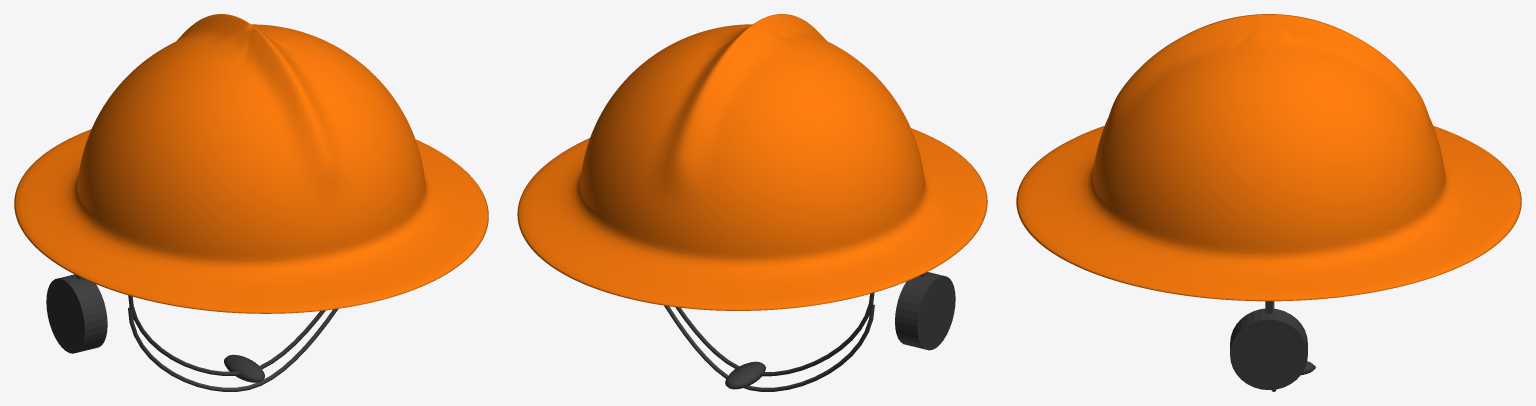
Rendered from forestry_hardhat.glb.
The picture shows the model from 3 angles, left to right: view 1: azimuth 30°, elevation 25°; view 2: azimuth 150°, elevation 25°; view 3: azimuth 270°, elevation 25°; orthographic projection. The views are drawn at different scales.
Visible parts, largest first — view 1: Forestry_Hardhat, Earmuff_L, Chin_Strap, Chin_Strap.008, Chin_Support_Cup; view 2: Forestry_Hardhat, Earmuff_L, Chin_Strap, Chin_Strap.008, Chin_Support_Cup; view 3: Forestry_Hardhat, Earmuff_R.
Boxes of the visible parts, x1,y1,x2,y2 form: Forestry_Hardhat: (14, 14, 488, 313); Earmuff_L: (46, 274, 107, 353); Chin_Strap: (128, 307, 338, 391); Chin_Strap.008: (128, 295, 325, 375); Chin_Support_Cup: (224, 354, 264, 382); Forestry_Hardhat: (517, 14, 987, 310); Earmuff_L: (895, 272, 955, 350); Chin_Strap: (664, 304, 874, 391); Chin_Strap.008: (675, 292, 874, 376); Chin_Support_Cup: (725, 361, 765, 389); Forestry_Hardhat: (1016, 14, 1521, 301); Earmuff_R: (1230, 308, 1307, 389).
Size of the model in its own units: 2.66 by 2.31 by 2.85.
